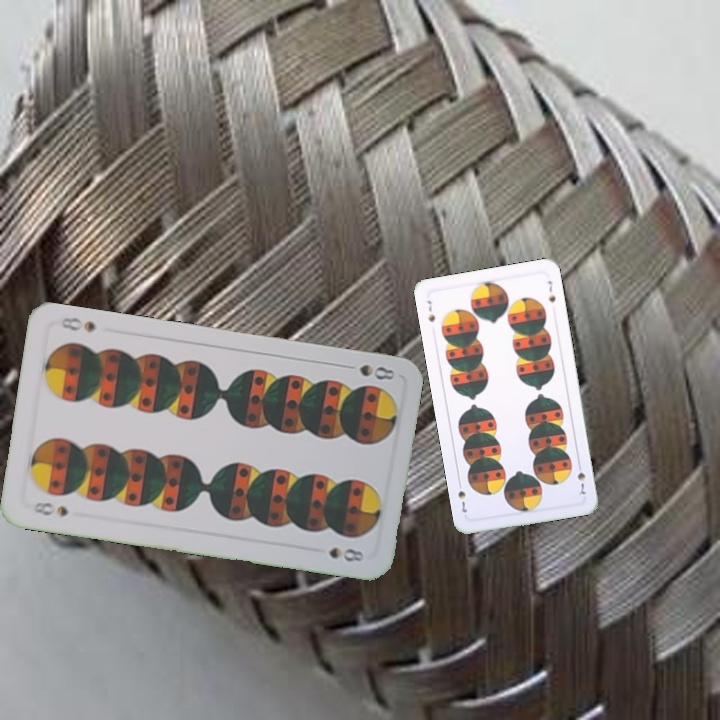S7: (573, 458, 588, 497), (423, 296, 438, 325)
S8: (339, 360, 398, 383), (29, 497, 71, 519)
